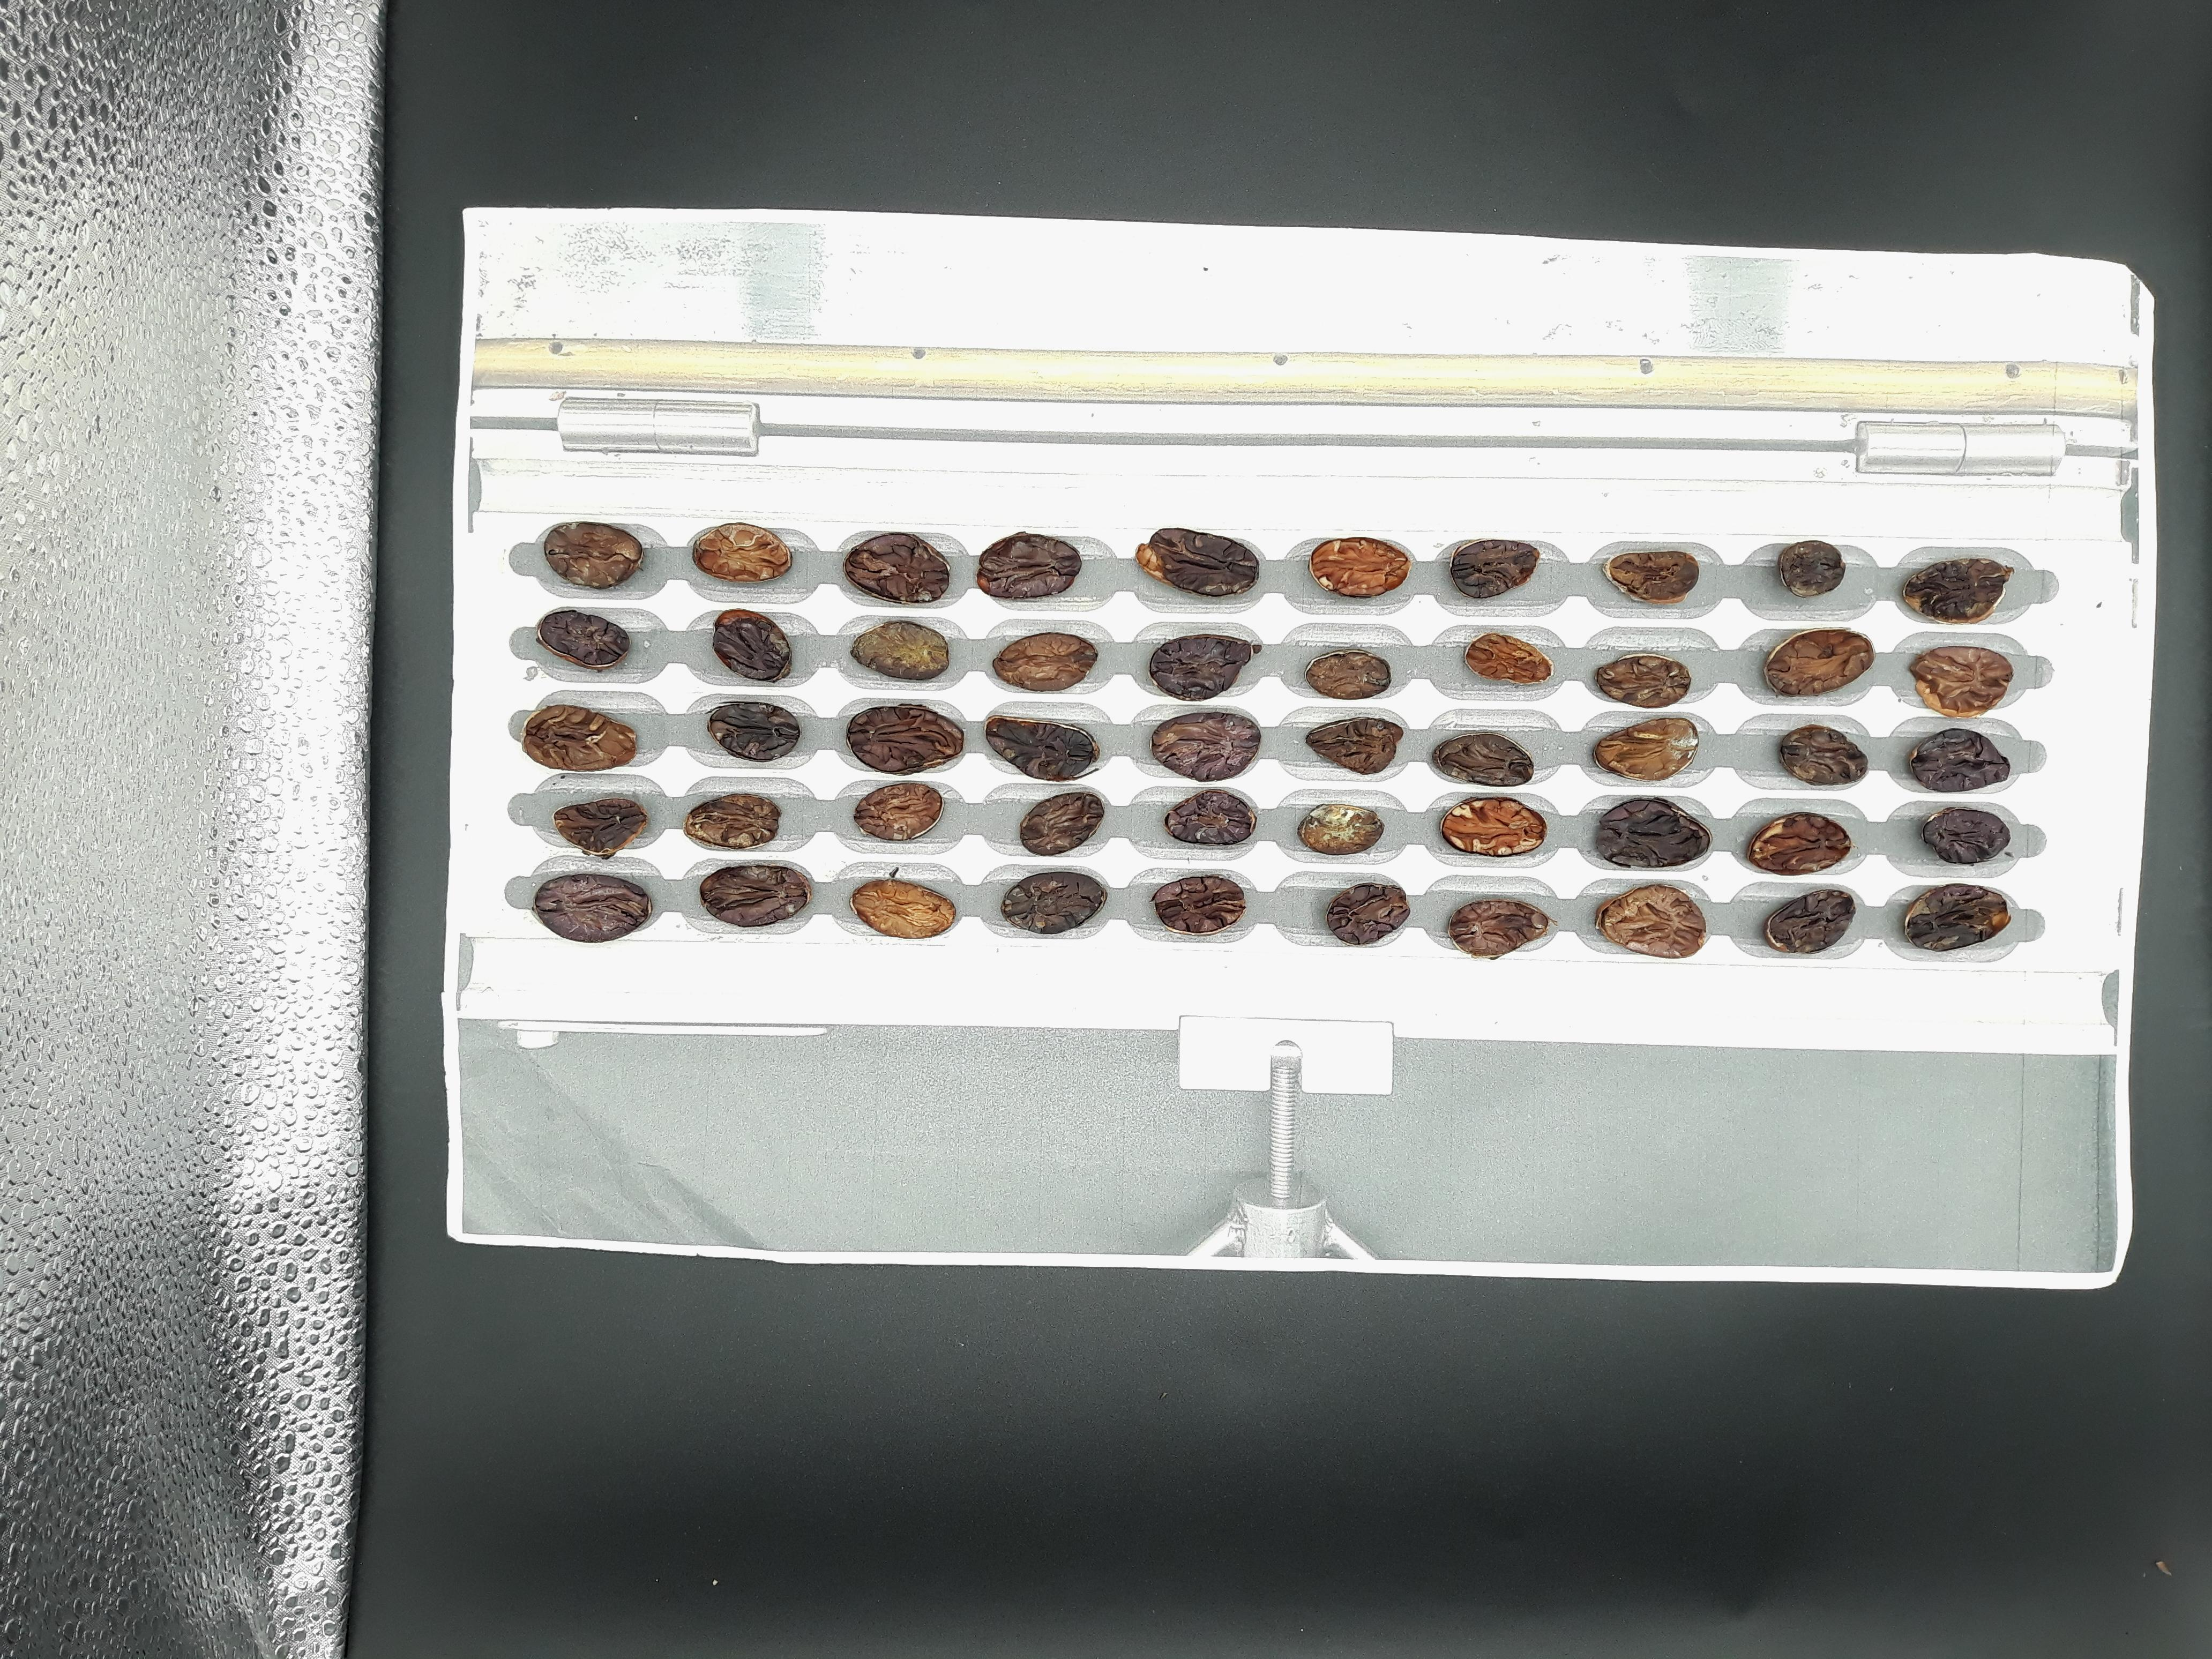Brown - G1: (944, 1152, 1003, 1195), (416, 1183, 482, 1222), (643, 1098, 705, 1138), (712, 1229, 775, 1267), (338, 1091, 399, 1127), (864, 1237, 923, 1274), (789, 1155, 845, 1192), (338, 1227, 390, 1260), (721, 1148, 775, 1178)
Brown - G2: (789, 1272, 853, 1319), (256, 1185, 322, 1223), (643, 1187, 702, 1227), (716, 1279, 773, 1316), (420, 1220, 472, 1258)
Brown - G3: (869, 1143, 935, 1187), (420, 1269, 477, 1309), (489, 1147, 552, 1182), (268, 1091, 322, 1131), (792, 1105, 848, 1140)
Brown - G4: (646, 1154, 695, 1187)
Insect-damaged: (418, 1140, 475, 1176)
Mouldy: (786, 1190, 850, 1229), (641, 1232, 691, 1265)
Partly Purple - G1: (787, 1230, 855, 1270), (568, 1269, 624, 1303)
Partly Purple - G2: (484, 1188, 552, 1227), (570, 1185, 629, 1229), (941, 1272, 1003, 1312), (481, 1096, 540, 1138), (341, 1263, 406, 1300), (873, 1274, 927, 1317), (716, 1100, 768, 1140), (655, 1272, 704, 1309)
Total Purple - G2: (944, 1192, 1000, 1236), (575, 1225, 629, 1262)
Total Purple - G3: (261, 1267, 327, 1310), (566, 1148, 629, 1188), (263, 1136, 317, 1171), (951, 1236, 1003, 1270)
Very Dark Brown - G1: (559, 1096, 631, 1138), (941, 1110, 1001, 1150), (350, 1136, 399, 1178)
Very Dark Brown - G2: (415, 1096, 475, 1138), (502, 1225, 556, 1263), (880, 1194, 934, 1230), (273, 1229, 324, 1265), (348, 1183, 399, 1218)
Very Dark Brown - G3: (493, 1265, 554, 1303), (705, 1197, 766, 1232), (876, 1103, 921, 1136)
